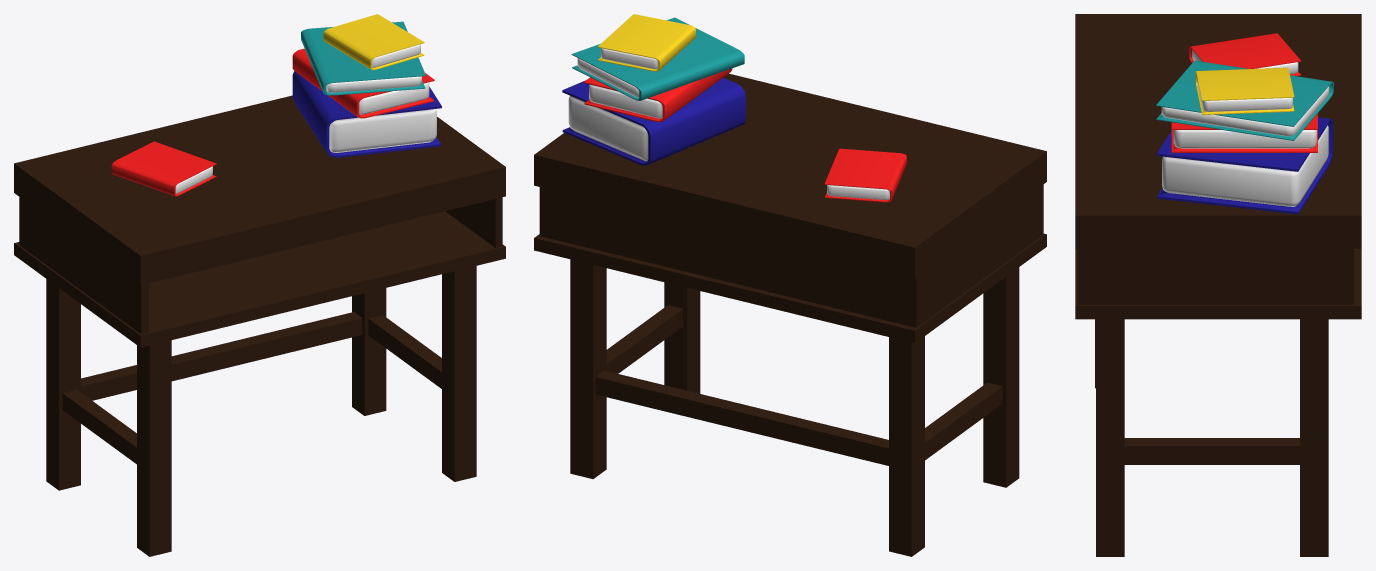
The picture shows the model from 3 angles, left to right: view 1: azimuth 30°, elevation 25°; view 2: azimuth 150°, elevation 25°; view 3: azimuth 270°, elevation 25°; orthographic projection. The views are drawn at different scales.
Visible parts, largest first — view 1: Box001, Box003, C-Ext001, Box002, Box006, ChamferBox004, Box004, Box007, ChamferBox005, Box005, ChamferBox007, ChamferBox006 (+3 smaller); view 2: Box001, C-Ext001, Box003, ChamferBox004, Box007, Box004, Box005, Box002, ChamferBox005, ChamferBox006, ChamferBox007, Box006 (+3 smaller); view 3: Box001, C-Ext001, ChamferBox004, Box005, Box006, ChamferBox005, Box003, Box009, ChamferBox006, ChamferBox003, ChamferBox007.
Part boxes in pixels (x1,y1,x2,y2): Box001: (14, 95, 505, 285); Box003: (14, 211, 505, 347); C-Ext001: (19, 197, 502, 334); Box002: (137, 340, 171, 556); Box006: (442, 266, 476, 481); ChamferBox004: (292, 71, 441, 157); Box004: (46, 279, 80, 490); Box007: (81, 312, 362, 400); ChamferBox005: (301, 21, 425, 95); Box005: (352, 288, 386, 415); ChamferBox007: (111, 141, 216, 196); ChamferBox006: (323, 14, 424, 70); Box001: (534, 73, 1046, 278); C-Ext001: (539, 184, 1043, 327); Box003: (534, 233, 1046, 343); ChamferBox004: (562, 77, 745, 165); Box007: (595, 370, 888, 465); Box004: (889, 336, 924, 556); Box005: (570, 259, 606, 478); Box002: (983, 267, 1019, 487); ChamferBox005: (571, 17, 744, 100); ChamferBox006: (598, 14, 695, 71); ChamferBox007: (824, 148, 906, 202); Box006: (664, 282, 700, 393); Box001: (1075, 14, 1361, 248); C-Ext001: (1077, 249, 1354, 304); ChamferBox004: (1156, 117, 1333, 214); Box005: (1300, 319, 1328, 556); Box006: (1096, 319, 1124, 556); ChamferBox005: (1156, 60, 1333, 140); Box003: (1075, 249, 1361, 319); Box009: (1124, 438, 1299, 464); ChamferBox006: (1195, 67, 1294, 114); ChamferBox003: (1171, 113, 1317, 152); ChamferBox007: (1188, 33, 1301, 76).
Bounding box in the file's own units: 50.14 × 52.49 × 30.
Materials: 5 (4 with a texture image).
